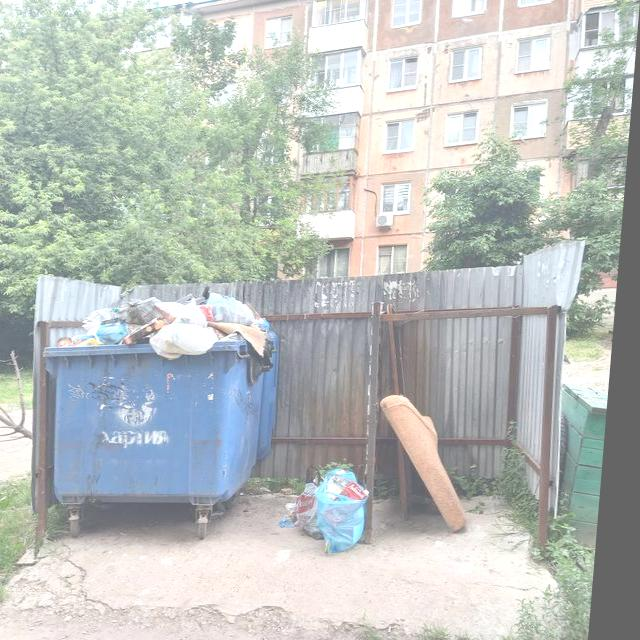Trash_Can_Full: (39, 294, 277, 508)
